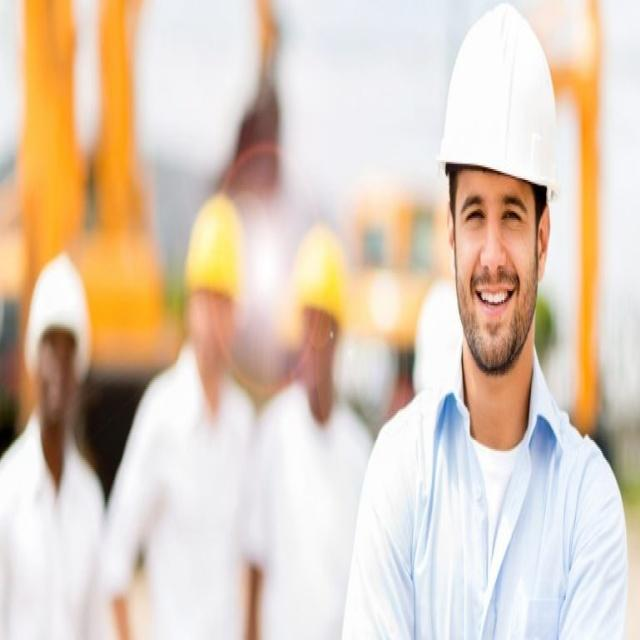helmet: (437, 3, 561, 504), (25, 337, 96, 571), (182, 250, 249, 490), (292, 294, 348, 534)
